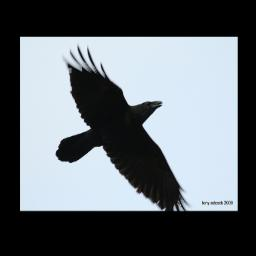Crow: (54, 42, 190, 211)
